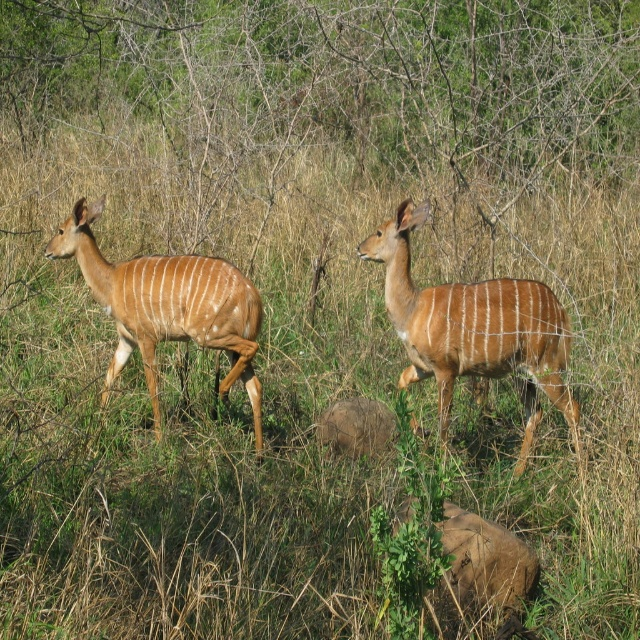Deer: (354, 189, 595, 498), (44, 193, 265, 469)
